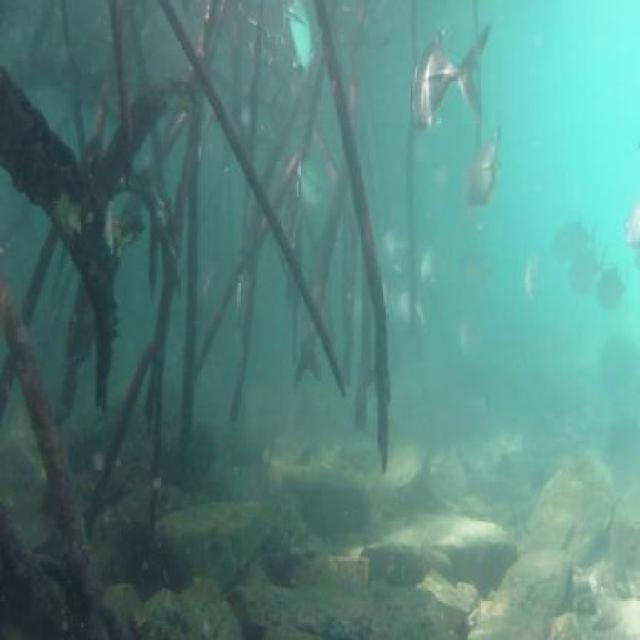Caranx_sexfasciatus_juvenile: (408, 16, 490, 158), (460, 133, 505, 210), (282, 3, 318, 91), (371, 212, 412, 282), (412, 235, 454, 300), (547, 216, 604, 262), (565, 236, 604, 298), (292, 139, 320, 224), (388, 284, 424, 342), (459, 252, 496, 306), (454, 314, 486, 372), (598, 266, 628, 322), (517, 240, 540, 311), (617, 202, 640, 258)
